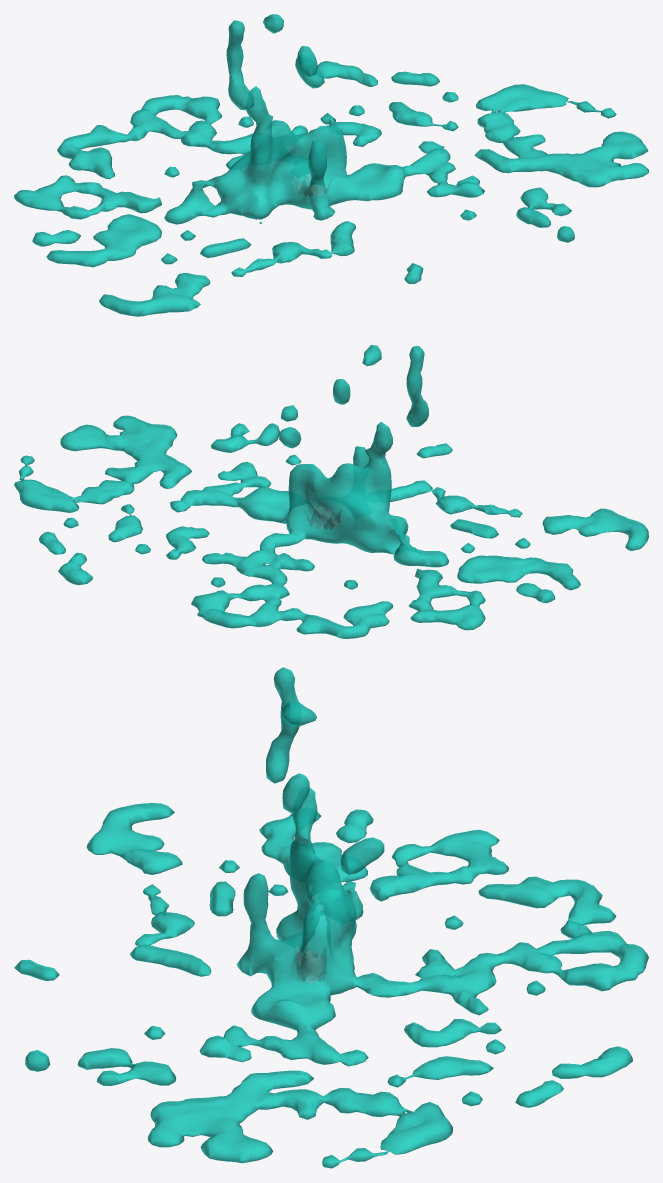
3 views of the same model, one above another, from view 1: azimuth 30°, elevation 25°; view 2: azimuth 150°, elevation 25°; view 3: azimuth 270°, elevation 25° (orthographic). The views are drawn at different scales.
Parts seen in each view (by area): view 1: Liquid_Domain; view 2: Liquid_Domain, グリッド; view 3: Liquid_Domain, グリッド.
Boxes of the visible parts, box(x1,y1,x2,y2) form: Liquid_Domain: box(14, 14, 648, 316); Liquid_Domain: box(14, 345, 648, 638); グリッド: box(305, 502, 341, 529); Liquid_Domain: box(14, 667, 648, 1168); グリッド: box(297, 946, 326, 983).
Bounding box in the file's own units: 8.58 × 2.92 × 6.42.
